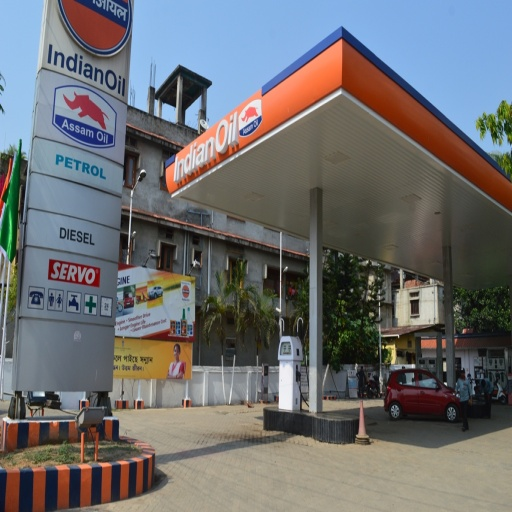roof: (164, 29, 512, 291)
